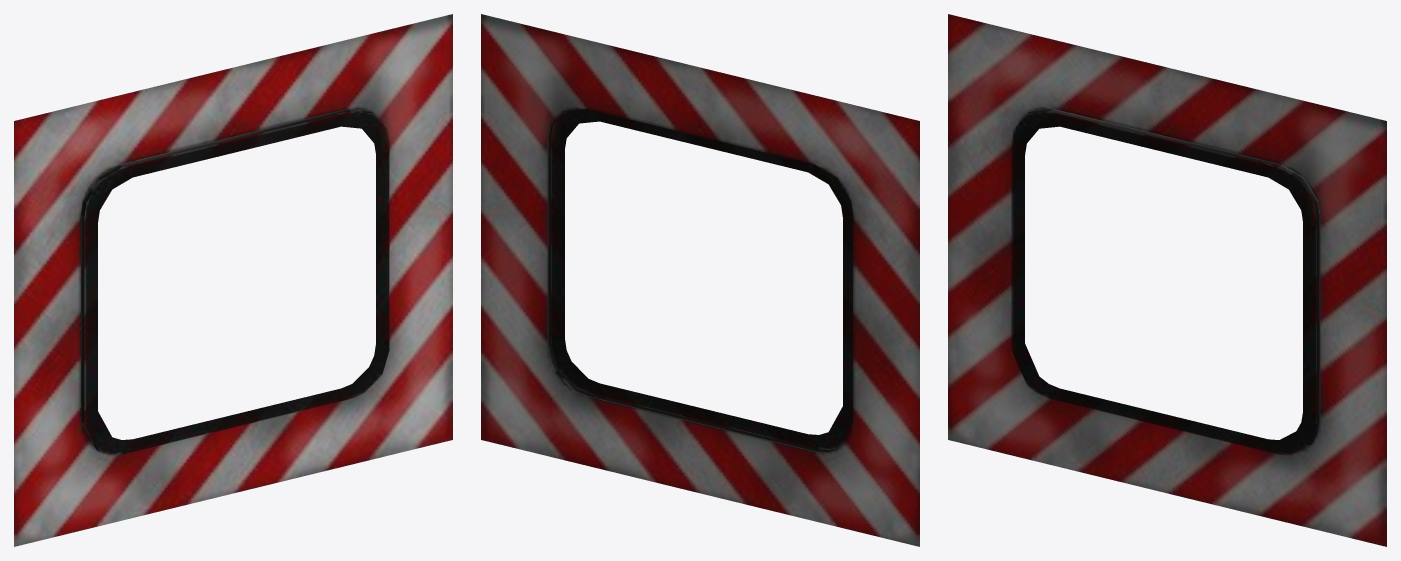
The model's file is cabinePontDEvolMarquage.fbx.
3 renders of one model, left to right at view 1: azimuth 30°, elevation 25°; view 2: azimuth 150°, elevation 25°; view 3: azimuth 330°, elevation 25°, orthographic.
Parts seen in each view (by area): view 1: ShapeIndexedFaceSet; view 2: ShapeIndexedFaceSet; view 3: ShapeIndexedFaceSet.
Boxes of the visible parts, box(x1,y1,x2,y2) form: ShapeIndexedFaceSet: box(14, 14, 452, 546); ShapeIndexedFaceSet: box(481, 14, 919, 546); ShapeIndexedFaceSet: box(948, 14, 1386, 546).
Bounding box in the file's own units: 3.45 × 3.2 × 0.0474.
